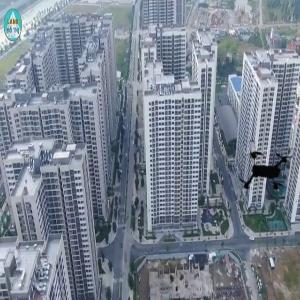drone: (232, 132, 300, 200)
